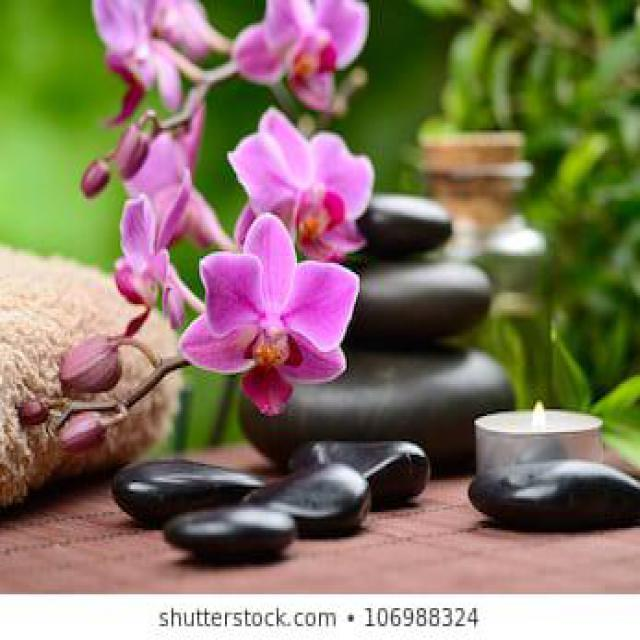Fire: (530, 400, 549, 432)
